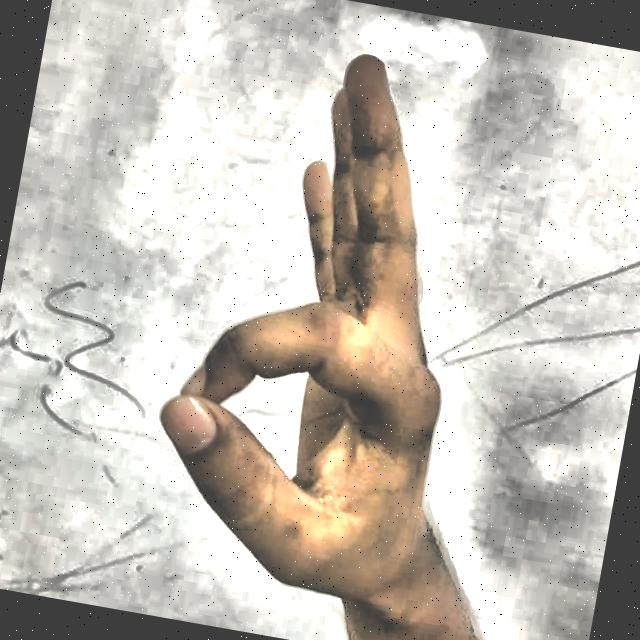Ca: (99, 0, 624, 640)
